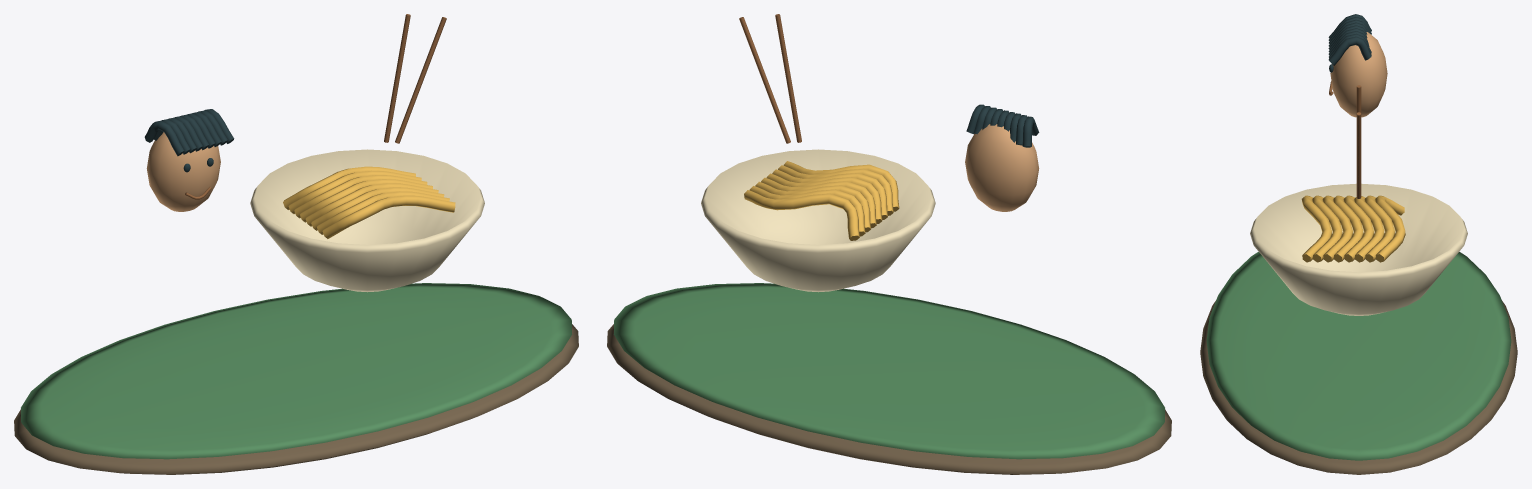
The model's file is noodle-strips.glb.
3 views of the same model, side by side, from view 1: azimuth 30°, elevation 25°; view 2: azimuth 150°, elevation 25°; view 3: azimuth 270°, elevation 25° (orthographic). The views are drawn at different scales.
Visible parts, largest first — view 1: noodle-strips_surface_01, noodle-strips_surface_05, noodle-strips_surface_00, noodle-strips_surface_06, noodle-strips_surface_02, noodle-strips_surface_03, noodle-strips_surface_04; view 2: noodle-strips_surface_01, noodle-strips_surface_05, noodle-strips_surface_00, noodle-strips_surface_06, noodle-strips_surface_02, noodle-strips_surface_03, noodle-strips_surface_04; view 3: noodle-strips_surface_01, noodle-strips_surface_05, noodle-strips_surface_00, noodle-strips_surface_06, noodle-strips_surface_02, noodle-strips_surface_03, noodle-strips_surface_04.
Part boxes in pixels (bbox=[...]): noodle-strips_surface_01: bbox=[21, 283, 572, 459]; noodle-strips_surface_05: bbox=[250, 149, 484, 292]; noodle-strips_surface_00: bbox=[14, 324, 578, 474]; noodle-strips_surface_06: bbox=[283, 166, 455, 238]; noodle-strips_surface_02: bbox=[146, 132, 220, 211]; noodle-strips_surface_03: bbox=[144, 109, 234, 172]; noodle-strips_surface_04: bbox=[185, 14, 446, 199]; noodle-strips_surface_01: bbox=[613, 283, 1164, 459]; noodle-strips_surface_05: bbox=[701, 149, 935, 292]; noodle-strips_surface_00: bbox=[607, 324, 1171, 474]; noodle-strips_surface_06: bbox=[744, 161, 899, 240]; noodle-strips_surface_02: bbox=[965, 124, 1039, 211]; noodle-strips_surface_03: bbox=[966, 104, 1039, 147]; noodle-strips_surface_04: bbox=[739, 14, 801, 143]; noodle-strips_surface_01: bbox=[1206, 252, 1511, 460]; noodle-strips_surface_05: bbox=[1250, 183, 1467, 315]; noodle-strips_surface_00: bbox=[1200, 301, 1517, 474]; noodle-strips_surface_06: bbox=[1301, 195, 1405, 262]; noodle-strips_surface_02: bbox=[1330, 32, 1387, 117]; noodle-strips_surface_03: bbox=[1328, 14, 1371, 72]; noodle-strips_surface_04: bbox=[1329, 81, 1361, 198].
Bounding box in the file's own units: 4.56 × 2.88 × 2.5.
